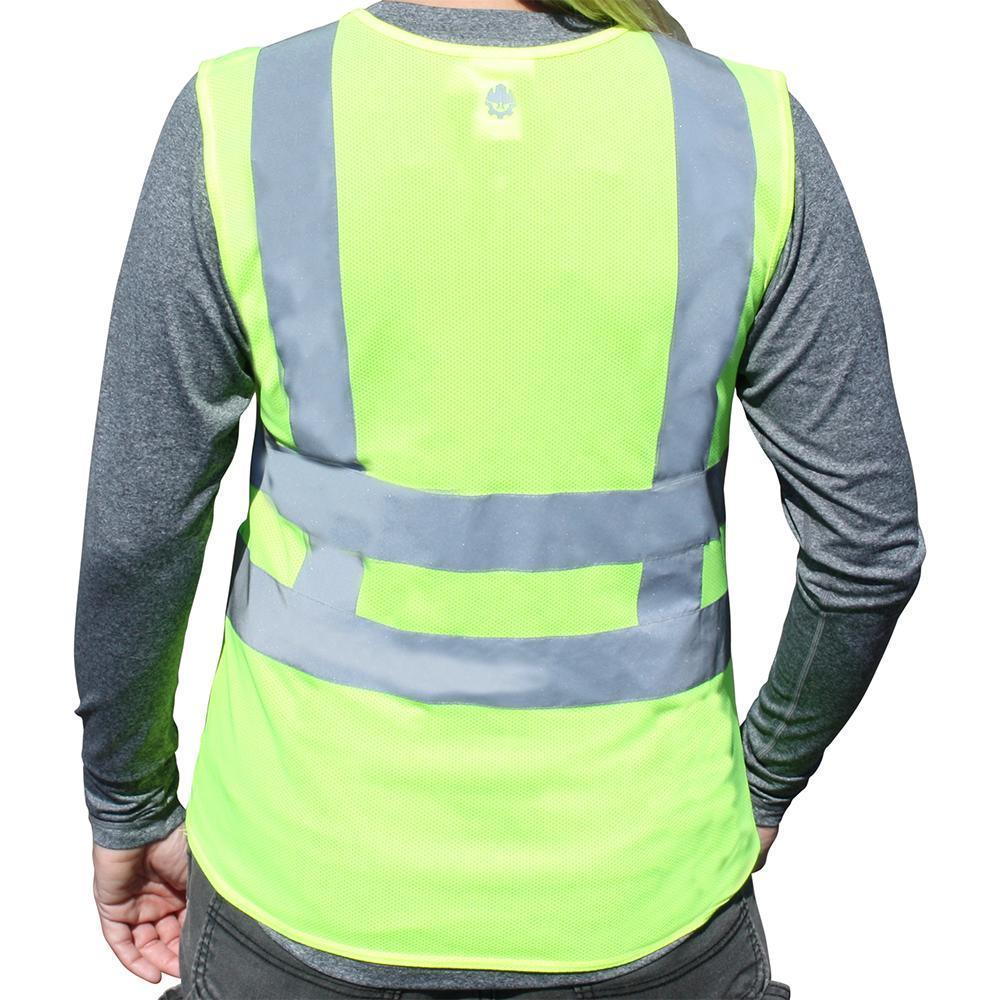vest: (181, 15, 795, 976)
